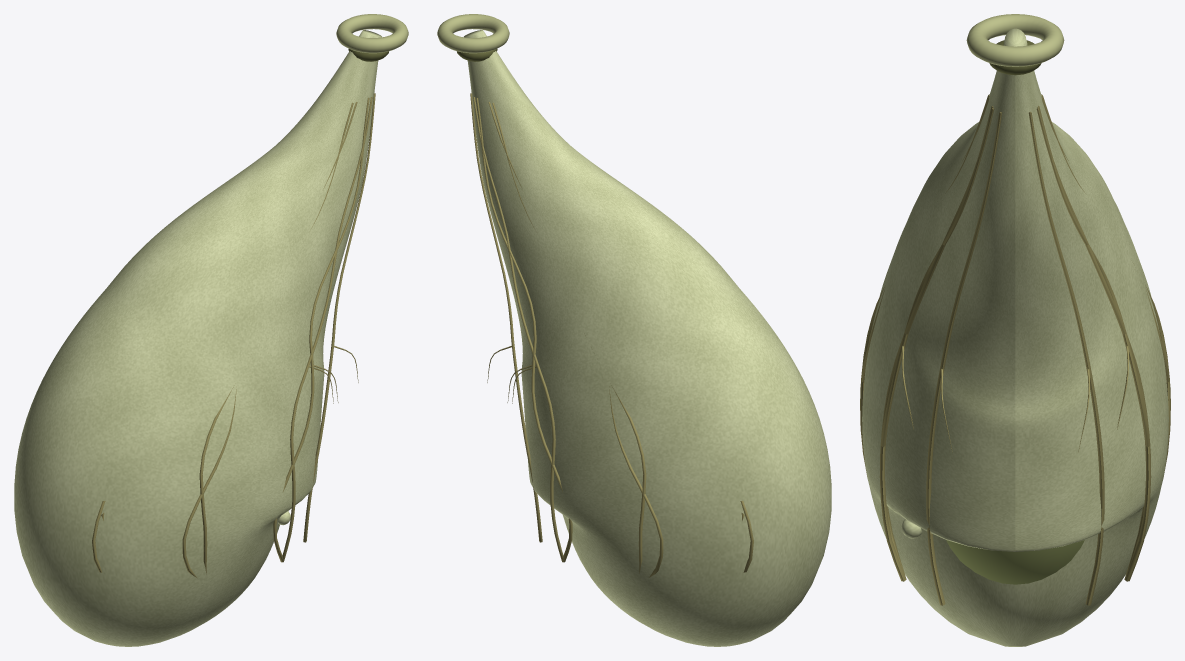
The model's file is marsh_gland.glb.
The picture shows the model from 3 angles, left to right: view 1: azimuth 30°, elevation 25°; view 2: azimuth 150°, elevation 25°; view 3: azimuth 270°, elevation 25°; orthographic projection. The views are drawn at different scales.
Visible parts, largest first — view 1: Wet translucent outer membrane, Fine branching membrane vessels, Folded pale duct tissue; view 2: Wet translucent outer membrane, Fine branching membrane vessels, Folded pale duct tissue; view 3: Wet translucent outer membrane, Fine branching membrane vessels, Folded pale duct tissue, Pale olive marsh fluid.
Boxes of the visible parts, box(x1,y1,x2,y2) form: Wet translucent outer membrane: box(14, 30, 381, 646); Fine branching membrane vessels: box(92, 93, 375, 578); Folded pale duct tissue: box(336, 14, 408, 53); Wet translucent outer membrane: box(464, 30, 831, 646); Fine branching membrane vessels: box(470, 93, 753, 577); Folded pale duct tissue: box(437, 14, 509, 53); Wet translucent outer membrane: box(862, 28, 1168, 646); Fine branching membrane vessels: box(860, 94, 1170, 605); Folded pale duct tissue: box(966, 14, 1064, 66); Pale olive marsh fluid: box(946, 540, 1084, 584).
Size of the model in its own units: 0.1147 by 0.16 by 0.0605.
Materials: 5 (1 with a texture image).
